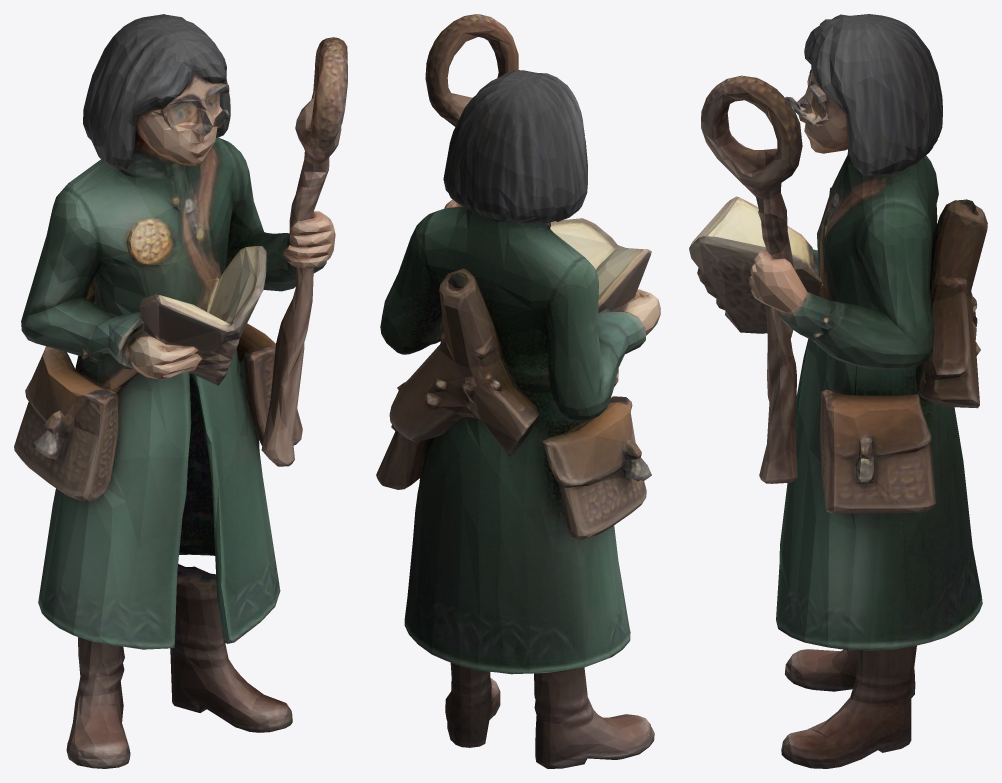
File: mayleTarn.glb
3 views of the same model, side by side, from view 1: azimuth 30°, elevation 25°; view 2: azimuth 150°, elevation 25°; view 3: azimuth 270°, elevation 25° (orthographic). The views are drawn at different scales.
Visible parts, largest first — view 1: world; view 2: world; view 3: world.
Boxes of the visible parts, x1,y1,x2,y2 form: world: (14,14,347,768); world: (376,14,660,768); world: (689,14,987,768).
Size of the model in its own units: 0.4051 by 0.9987 by 0.3859.
1 material, 1 textured.
